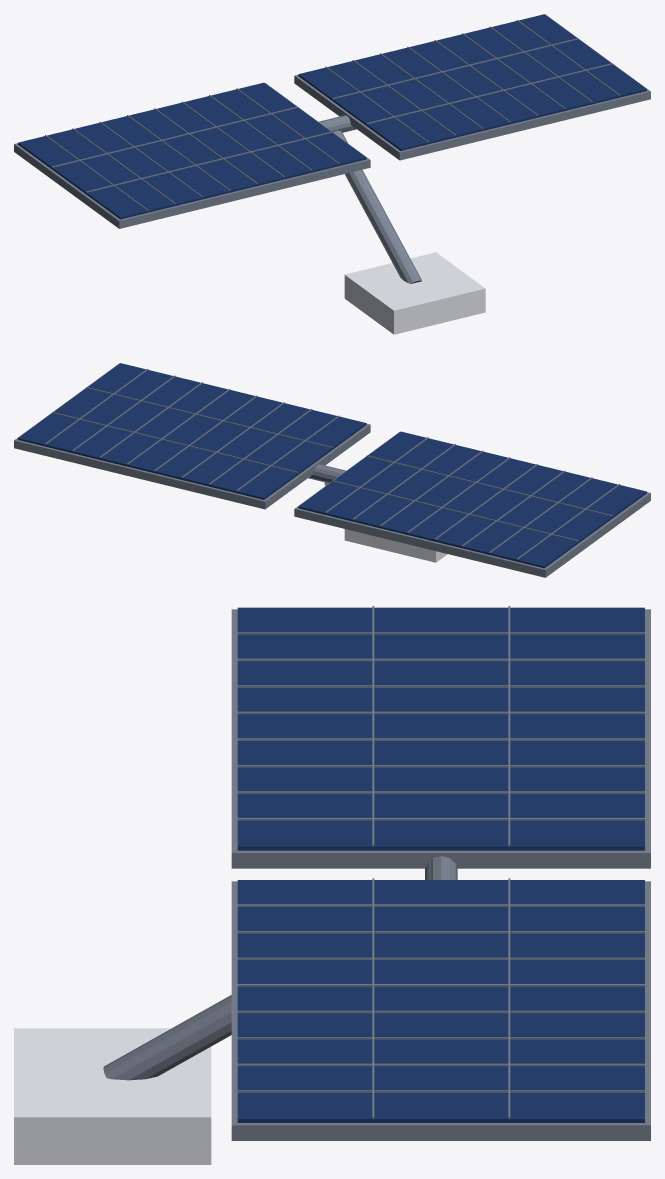
Rendered from Solar_Large.glb.
3 views of the same model, one above another, from view 1: azimuth 30°, elevation 25°; view 2: azimuth 150°, elevation 25°; view 3: azimuth 270°, elevation 25° (orthographic). The views are drawn at different scales.
Parts seen in each view (by area): view 1: Solar_Large; view 2: Solar_Large; view 3: Solar_Large.
Part boxes in pixels (bbox=[...]): Solar_Large: bbox=[14, 14, 650, 334]; Solar_Large: bbox=[14, 363, 650, 577]; Solar_Large: bbox=[14, 606, 650, 1164].
Size of the model in its own units: 1.86 by 0.4345 by 0.969.
